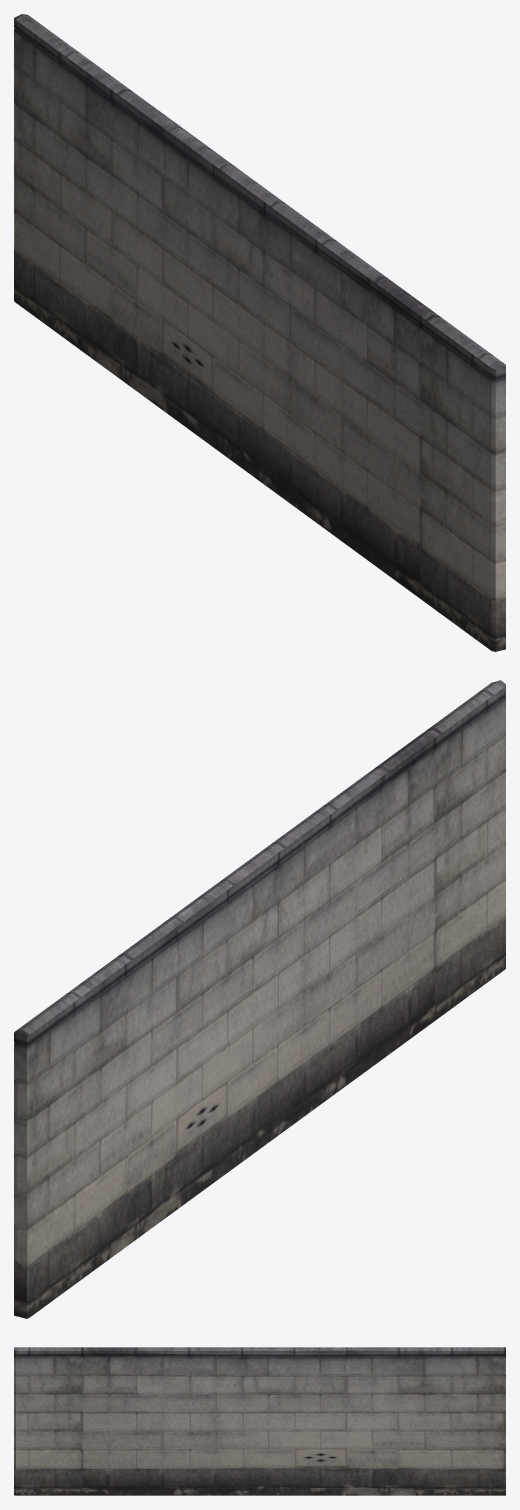
Rendered from hfence01-3_LOD0.fbx.
3 renders of one model, top to bottom at view 1: azimuth 30°, elevation 25°; view 2: azimuth 150°, elevation 25°; view 3: azimuth 270°, elevation 25°, orthographic. The views are drawn at different scales.
Parts seen in each view (by area): view 1: hfence01-3_LOD0; view 2: hfence01-3_LOD0; view 3: hfence01-3_LOD0.
Boxes of the visible parts, x1=… form: hfence01-3_LOD0: x1=14, y1=14, x2=505, y2=651; hfence01-3_LOD0: x1=14, y1=680, x2=505, y2=1318; hfence01-3_LOD0: x1=14, y1=1347, x2=505, y2=1495.
Size of the model in its own units: 0.0664 by 1.26 by 3.84.
